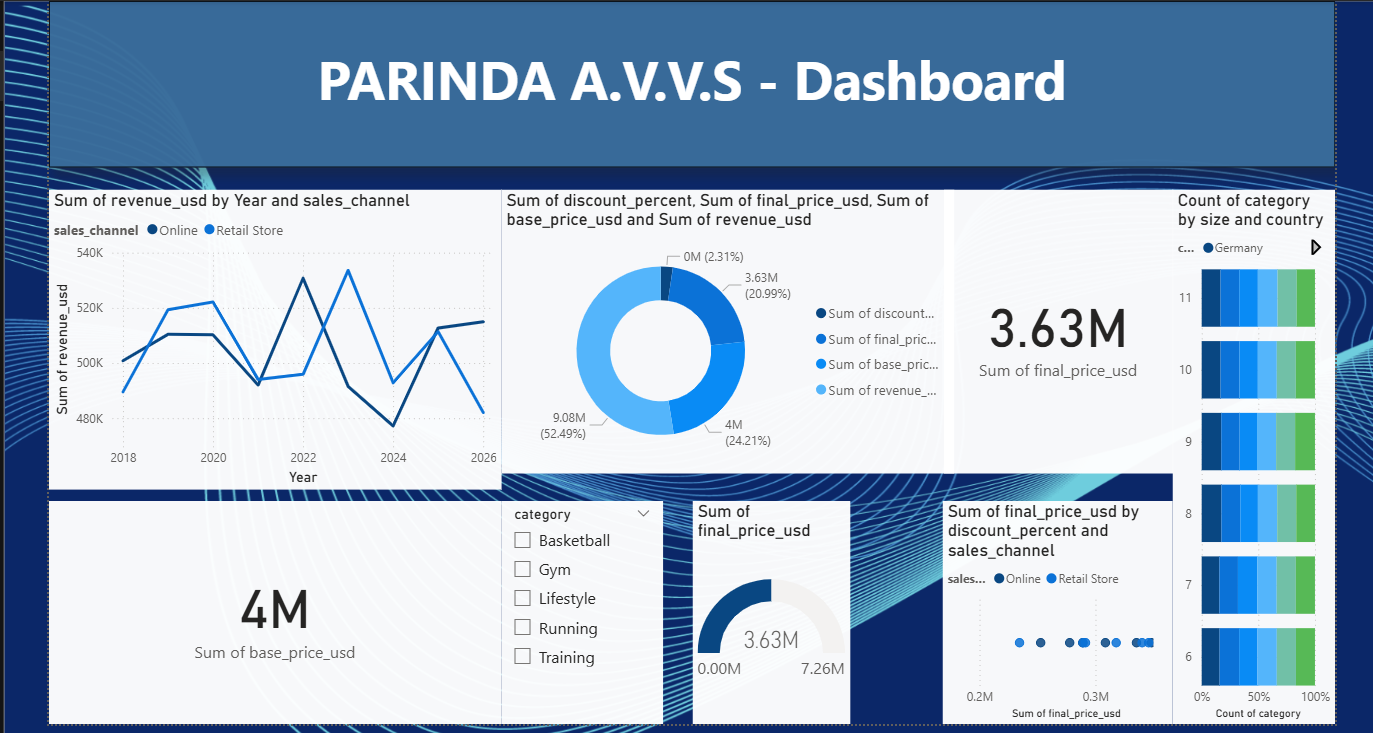

The dashboard page shown, as its layout file describes it:
{"tool":"powerbi","page":{"name":"Page 1","canvas":[1280,720],"ordinal":0},"visuals":[{"type":"textbox","box":[0,0,1280,165.4],"z":0},{"type":"lineChart","fields":{"Category":["global_sports_footwear_sales_2018_2026.order_date.Variation.Date Hierarchy.Year"],"Y":["Sum(global_sports_footwear_sales_2018_2026.revenue_usd)"],"Series":["global_sports_footwear_sales_2018_2026.sales_channel"]},"box":[0,187.8,450.3,298.6],"z":1000},{"type":"donutChart","fields":{"Y":["Sum(global_sports_footwear_sales_2018_2026.discount_percent)","Sum(global_sports_footwear_sales_2018_2026.final_price_usd)","Sum(global_sports_footwear_sales_2018_2026.base_price_usd)","Sum(global_sports_footwear_sales_2018_2026.revenue_usd)"]},"box":[450.3,187.8,450.3,282.4],"z":2000},{"type":"card","fields":{"Values":["Sum(global_sports_footwear_sales_2018_2026.final_price_usd)"]},"box":[890.7,187.8,227.6,282.4],"z":3000},{"type":"card","fields":{"Values":["Sum(global_sports_footwear_sales_2018_2026.base_price_usd)"]},"box":[0,497,450,223],"z":4000},{"type":"slicer","fields":{"Values":["global_sports_footwear_sales_2018_2026.category"]},"box":[450.3,497.6,160.5,222.7],"z":5000},{"type":"gauge","fields":{"Y":["Sum(global_sports_footwear_sales_2018_2026.final_price_usd)"]},"box":[640.6,497.6,156.7,222.7],"z":6000},{"type":"scatterChart","fields":{"X":["Sum(global_sports_footwear_sales_2018_2026.final_price_usd)"],"Category":["global_sports_footwear_sales_2018_2026.discount_percent"],"Series":["global_sports_footwear_sales_2018_2026.sales_channel"]},"box":[889.4,497.6,228.9,222.7],"z":7000},{"type":"hundredPercentStackedBarChart","fields":{"Series":["global_sports_footwear_sales_2018_2026.country"],"Y":["CountNonNull(global_sports_footwear_sales_2018_2026.category)"],"Category":["global_sports_footwear_sales_2018_2026.size"]},"box":[1118.3,187.8,161.7,532.4],"z":8000}]}

Visuals, with their boxes in screenshot pixels (x1, y1, x2, y2):
textbox: <bbox>46, 0, 1332, 162</bbox>
lineChart - global_sports_footwear_sales_2018_2026.order_date.Variation.Date Hierarchy.Year x Sum(global_sports_footwear_sales_2018_2026.revenue_usd): <bbox>46, 185, 499, 485</bbox>
donutChart - Sum(global_sports_footwear_sales_2018_2026.discount_percent) x Sum(global_sports_footwear_sales_2018_2026.final_price_usd): <bbox>499, 185, 951, 468</bbox>
card - Sum(global_sports_footwear_sales_2018_2026.final_price_usd): <bbox>941, 185, 1169, 468</bbox>
card - Sum(global_sports_footwear_sales_2018_2026.base_price_usd): <bbox>46, 495, 498, 719</bbox>
slicer - global_sports_footwear_sales_2018_2026.category: <bbox>499, 496, 660, 720</bbox>
gauge - Sum(global_sports_footwear_sales_2018_2026.final_price_usd): <bbox>690, 496, 847, 720</bbox>
scatterChart - Sum(global_sports_footwear_sales_2018_2026.final_price_usd) x global_sports_footwear_sales_2018_2026.discount_percent: <bbox>939, 496, 1169, 720</bbox>
hundredPercentStackedBarChart - global_sports_footwear_sales_2018_2026.country x CountNonNull(global_sports_footwear_sales_2018_2026.category): <bbox>1169, 185, 1332, 719</bbox>
